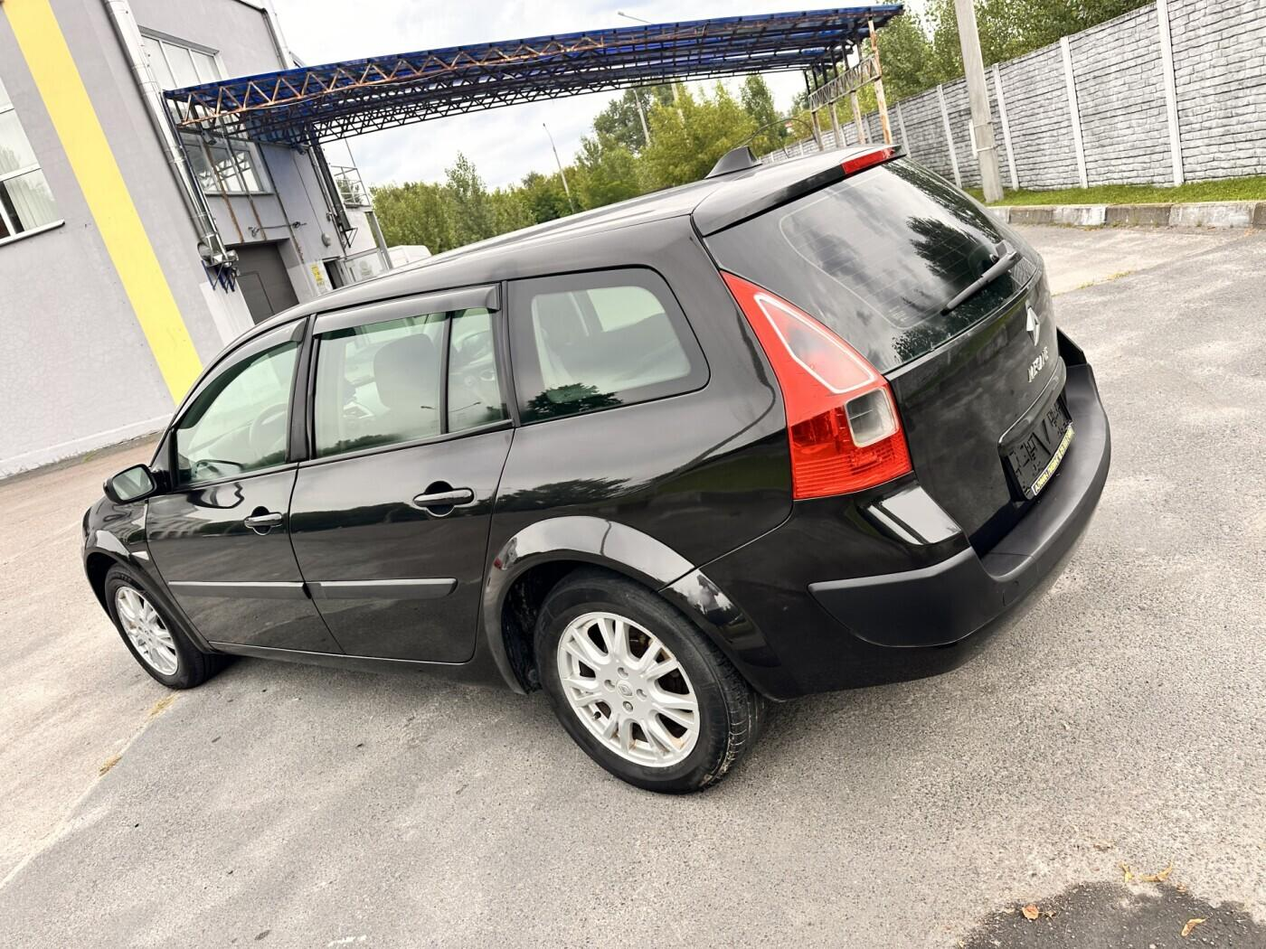Megane_2005-2009: (74, 150, 1112, 797)
